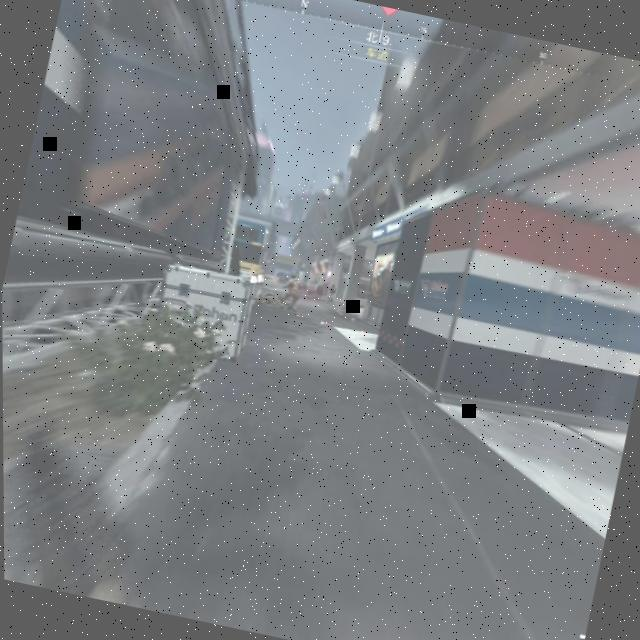MW2_body: (276, 272, 305, 315)
